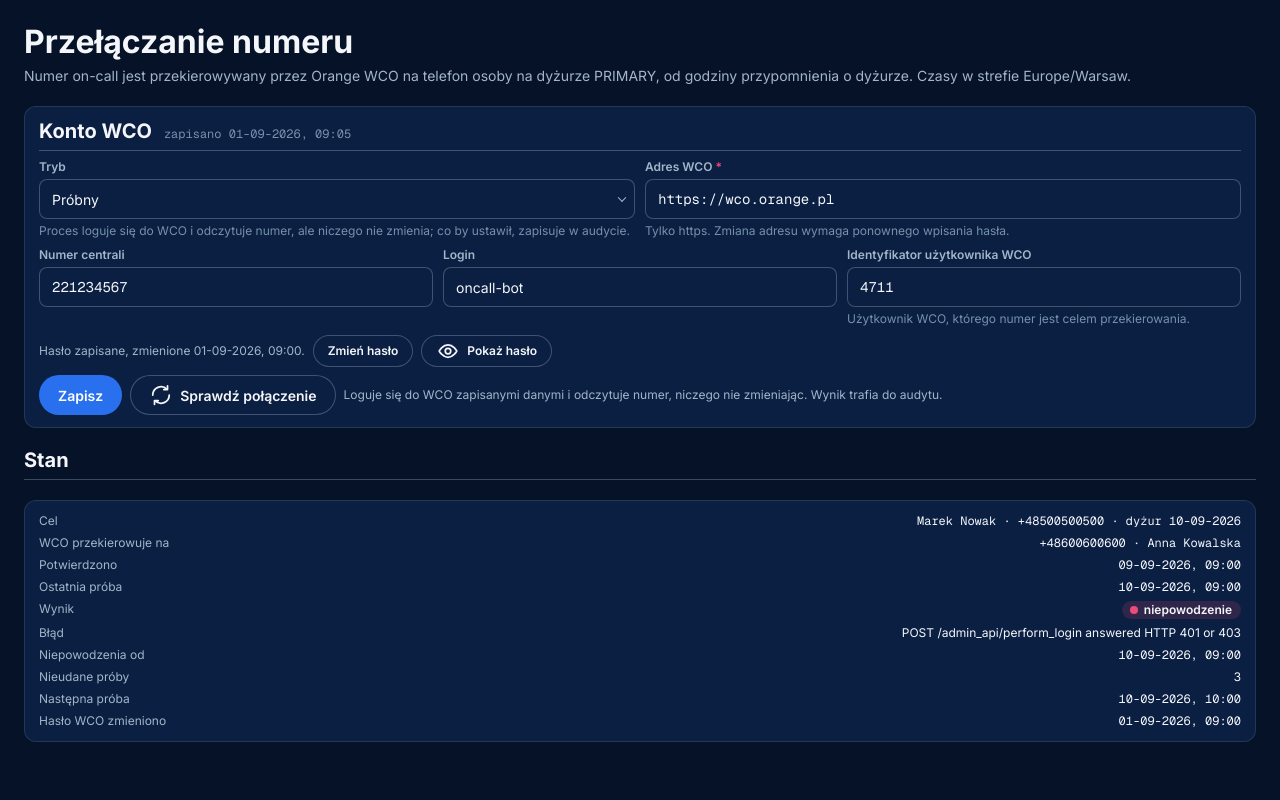
Test: ForwardingPanel › reports a connection check: {"outcome":"ok","number":"+48600600600","detail":null}
The width and height of the screenshot is (1280, 800).
Click the button "Sprawdź połączenie": {"x": 233, "y": 395} [130,375,336,415]
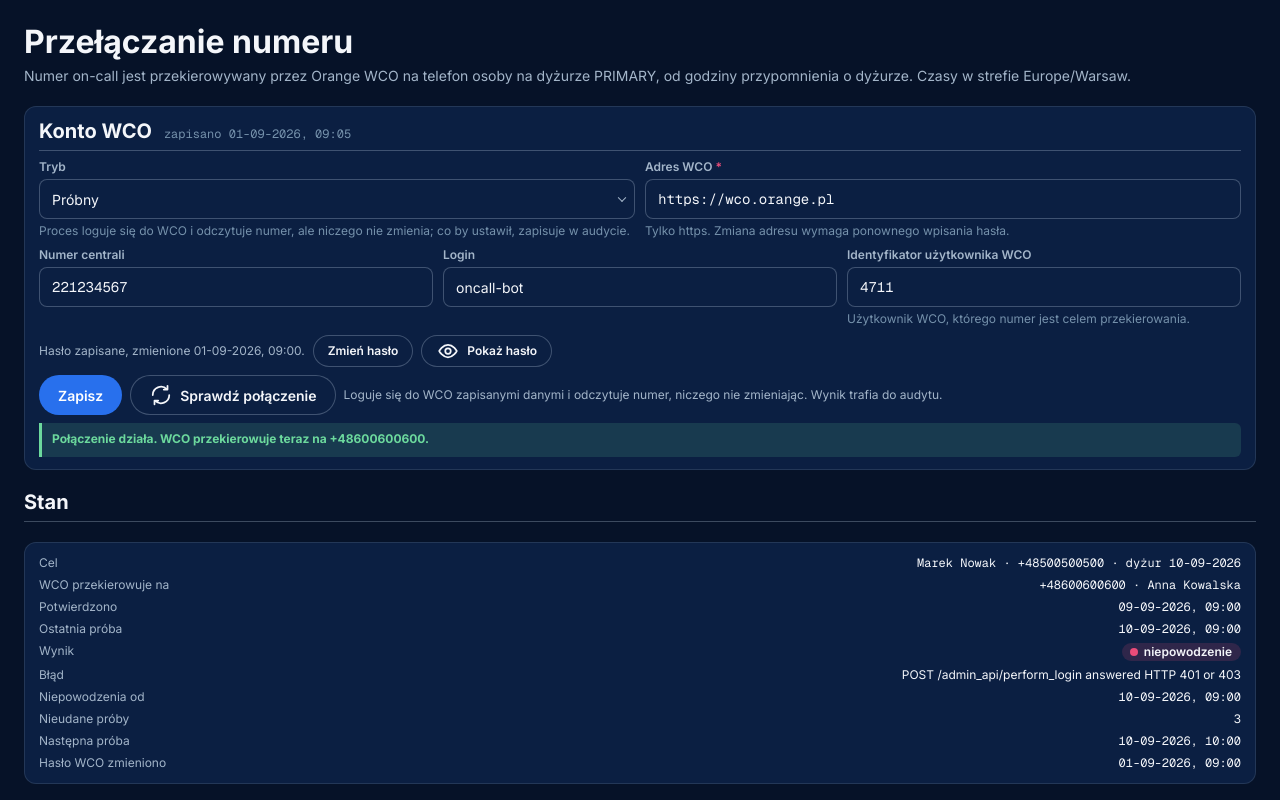
Expected: the message reads "Połączenie działa. WCO przekierowuje teraz na +48600600600.", [52,431,429,446]
